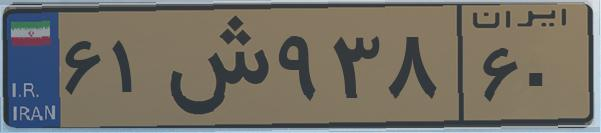0: (525, 38, 570, 115)
1: (110, 28, 158, 98)
3: (330, 28, 385, 110)
6: (57, 26, 110, 100), (475, 38, 525, 113)
8: (385, 28, 445, 110)
9: (270, 28, 330, 110)
ش: (158, 12, 270, 120)
